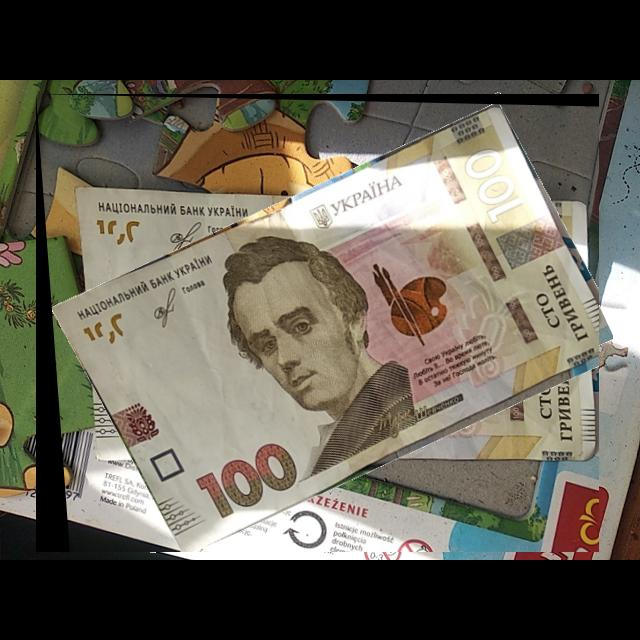100uah: (49, 103, 600, 553)
